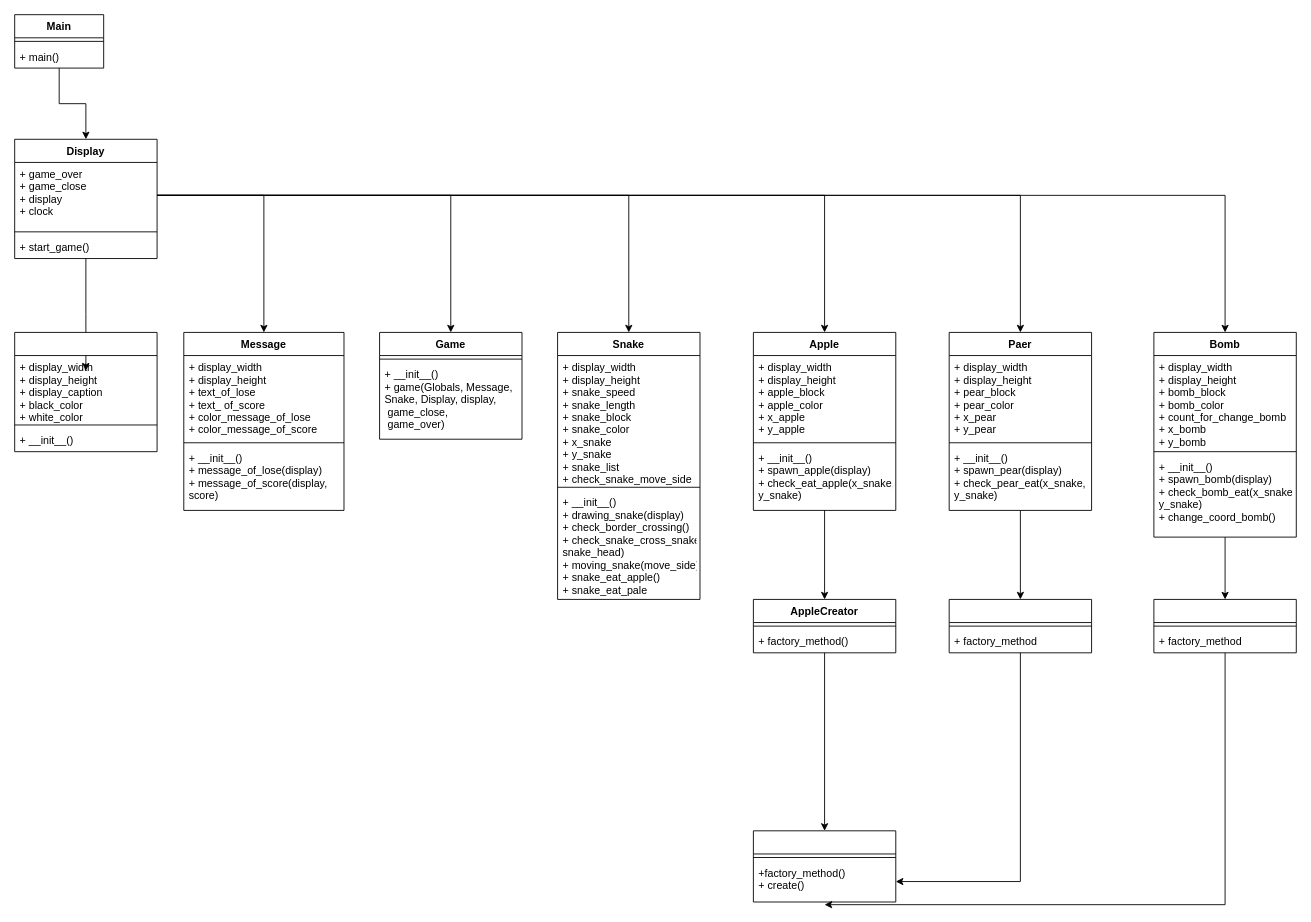
This 1311x922 diagram has some shape labels left out. Each missing label, with the box of its shape:
BombCreator: (1153, 599, 1296, 653)
FoodCreator: (752, 830, 896, 902)
Globals: (14, 332, 157, 452)
PearCreator: (948, 599, 1092, 653)
